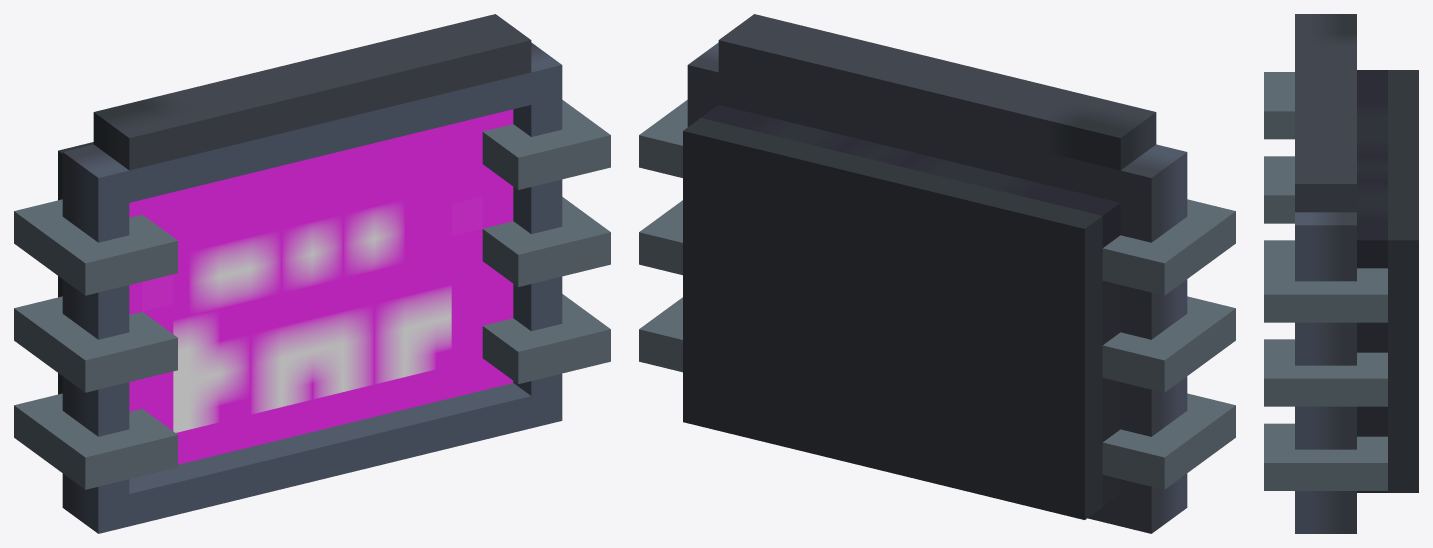
File: Advertising-9.fbx
The picture shows the model from 3 angles, left to right: view 1: azimuth 30°, elevation 25°; view 2: azimuth 150°, elevation 25°; view 3: azimuth 270°, elevation 25°; orthographic projection. The views are drawn at different scales.
Visible parts, largest first — view 1: Advertising_9; view 2: Advertising_9; view 3: Advertising_9.
Part boxes in pixels (box(x1,y1,x2,y2)): Advertising_9: box(14, 14, 610, 533); Advertising_9: box(639, 14, 1235, 533); Advertising_9: box(1264, 14, 1418, 533).
Size of the model in its own units: 170 by 120 by 50.
